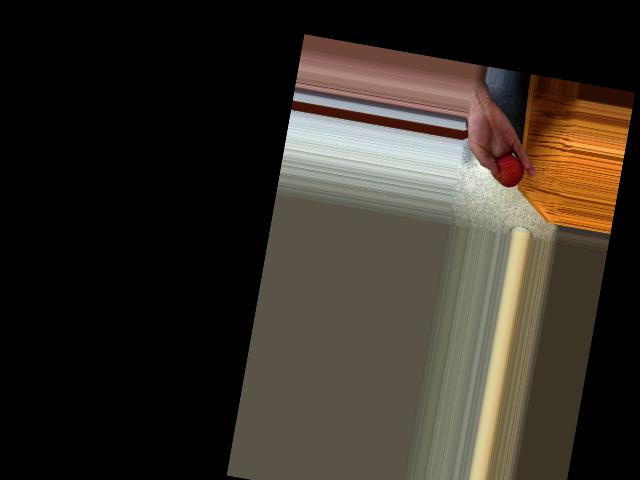apple: (486, 148, 526, 189)
